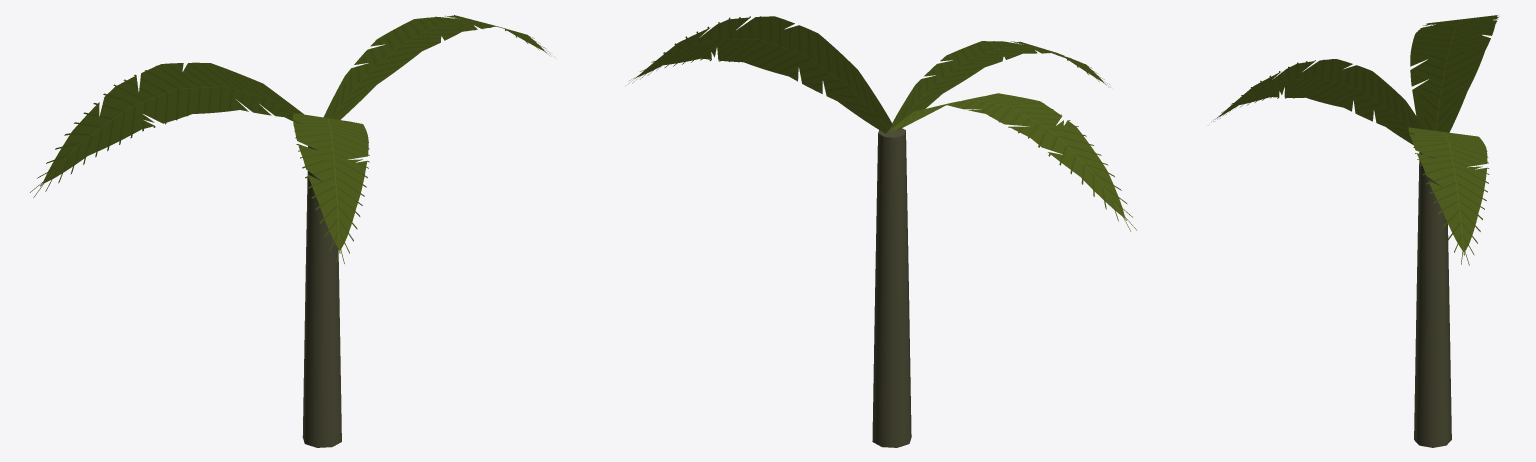
The model's file is banana_plant_1_burnt2.glb.
The picture shows the model from 3 angles, left to right: view 1: azimuth 30°, elevation 25°; view 2: azimuth 150°, elevation 25°; view 3: azimuth 270°, elevation 25°; orthographic projection. The views are drawn at different scales.
Visible parts, largest first — view 1: banana_plant_1_burnt2; view 2: banana_plant_1_burnt2; view 3: banana_plant_1_burnt2.
Part boxes in pixels (box(x1,y1,x2,y2)): banana_plant_1_burnt2: box(30, 15, 550, 447); banana_plant_1_burnt2: box(629, 16, 1136, 447); banana_plant_1_burnt2: box(1209, 15, 1499, 447).
Bounding box in the file's own units: 4.2 × 2.94 × 2.43.
2 materials, 1 textured.
